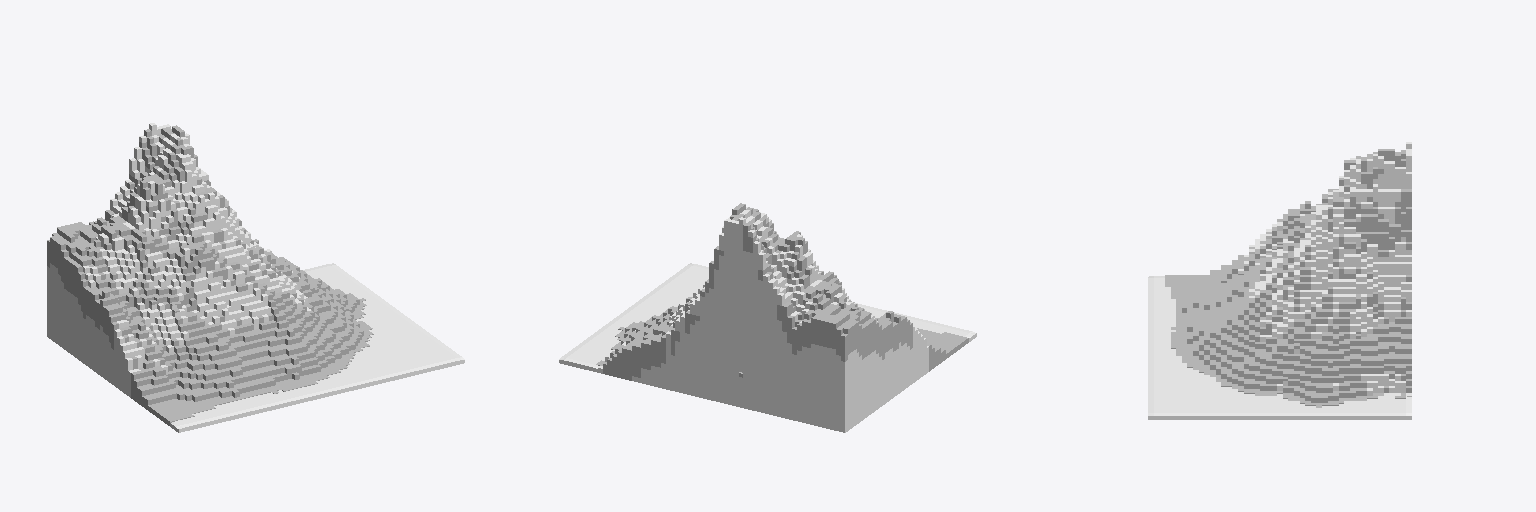
The picture shows the model from 3 angles: view 1: azimuth 30°, elevation 25°; view 2: azimuth 150°, elevation 25°; view 3: azimuth 270°, elevation 25°; orthographic projection.
Visible parts, largest first — view 1: discord__126_62_228_to_184_255_274; view 2: discord__126_62_228_to_184_255_274; view 3: discord__126_62_228_to_184_255_274.
Boxes of the visible parts, x1=… form: discord__126_62_228_to_184_255_274: x1=47, y1=123, x2=464, y2=432; discord__126_62_228_to_184_255_274: x1=559, y1=203, x2=976, y2=432; discord__126_62_228_to_184_255_274: x1=1148, y1=142, x2=1411, y2=419.
Size of the model in its own units: 59 by 37 by 47.